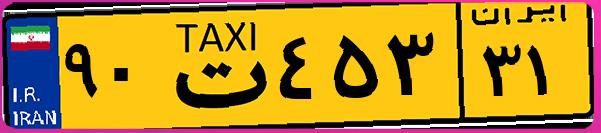0: (110, 28, 158, 98)
1: (525, 38, 570, 115)
3: (385, 28, 445, 110), (475, 38, 525, 113)
4: (270, 28, 330, 110)
5: (330, 28, 385, 110)
9: (57, 26, 110, 100)
ت: (158, 12, 270, 120)
